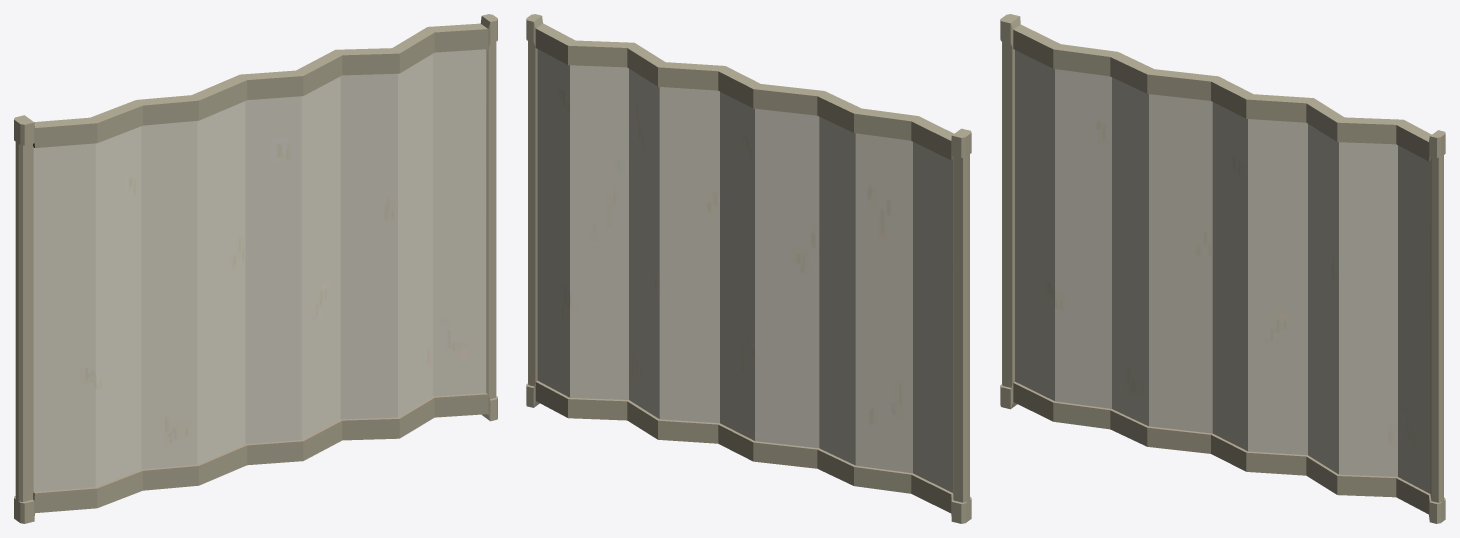
File: ChildSafetyGate.fbx
The picture shows the model from 3 angles, left to right: view 1: azimuth 30°, elevation 25°; view 2: azimuth 150°, elevation 25°; view 3: azimuth 330°, elevation 25°; orthographic projection. The views are drawn at different scales.
Parts seen in each view (by area): view 1: ChildSafetyGate; view 2: ChildSafetyGate; view 3: ChildSafetyGate.
Boxes of the visible parts, box(x1,y1,x2,y2) form: ChildSafetyGate: box(14, 14, 497, 523); ChildSafetyGate: box(526, 14, 971, 523); ChildSafetyGate: box(1000, 14, 1445, 523).
Bounding box in the file's own units: 14188 × 11600 × 1243.
